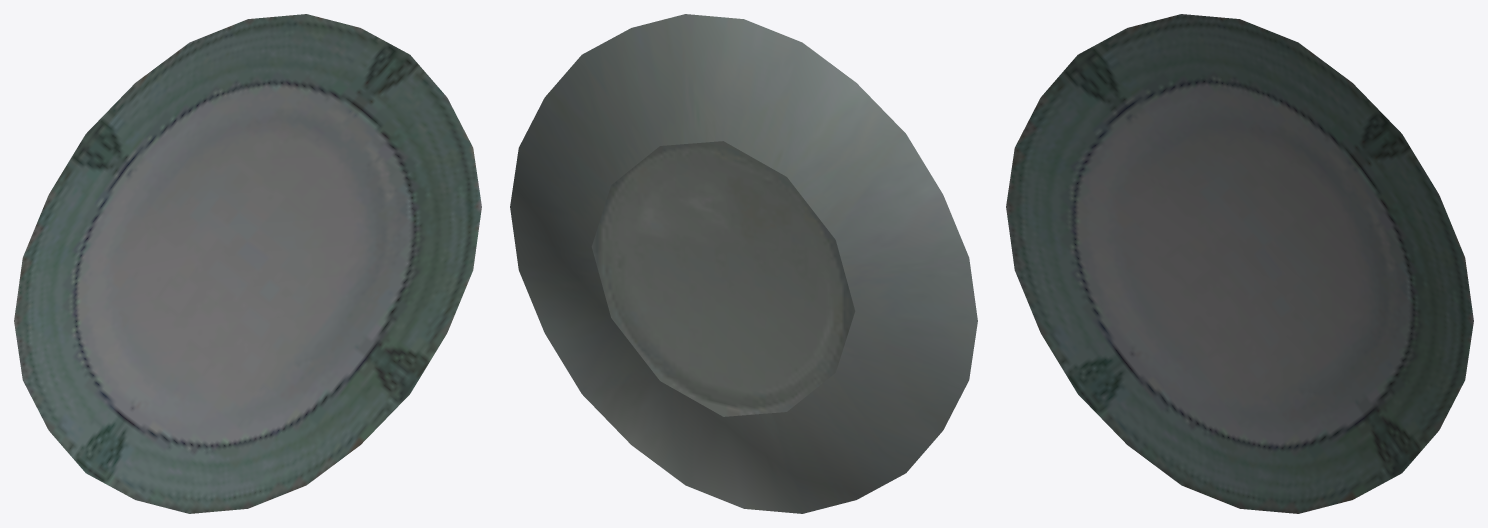
Rendered from p_us_restaurant_plate_LOD2.obj.
3 views of the same model, side by side, from view 1: azimuth 30°, elevation 25°; view 2: azimuth 150°, elevation 25°; view 3: azimuth 330°, elevation 25° (orthographic).
Parts seen in each view (by area): view 1: mtl_p_us_restaurant_plate; view 2: mtl_p_us_restaurant_plate; view 3: mtl_p_us_restaurant_plate.
Boxes of the visible parts, x1=… form: mtl_p_us_restaurant_plate: x1=14, y1=14, x2=481, y2=513; mtl_p_us_restaurant_plate: x1=510, y1=14, x2=977, y2=513; mtl_p_us_restaurant_plate: x1=1006, y1=14, x2=1473, y2=513.
Size of the model in its own units: 33.89 by 33.89 by 2.57.
